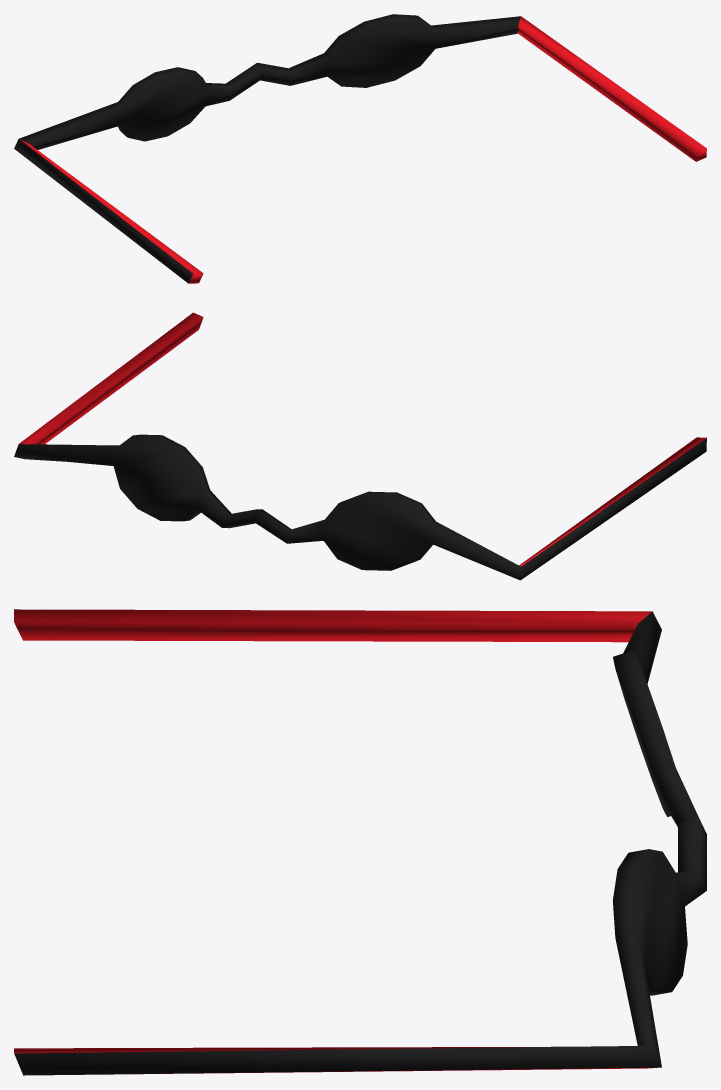
File: Sunglasses.gltf
The picture shows the model from 3 angles, top to bottom: view 1: azimuth 30°, elevation 25°; view 2: azimuth 150°, elevation 25°; view 3: azimuth 270°, elevation 25°; orthographic projection. The views are drawn at different scales.
Visible parts, largest first — view 1: SUNGLASSES; view 2: SUNGLASSES; view 3: SUNGLASSES.
Boxes of the visible parts, x1,y1,x2,y2 form: SUNGLASSES: [14, 14, 706, 283]; SUNGLASSES: [14, 312, 706, 580]; SUNGLASSES: [14, 609, 706, 1075].
Bounding box in the file's own units: 0.2278 × 0.0311 × 0.149.
1 material, 1 textured.
